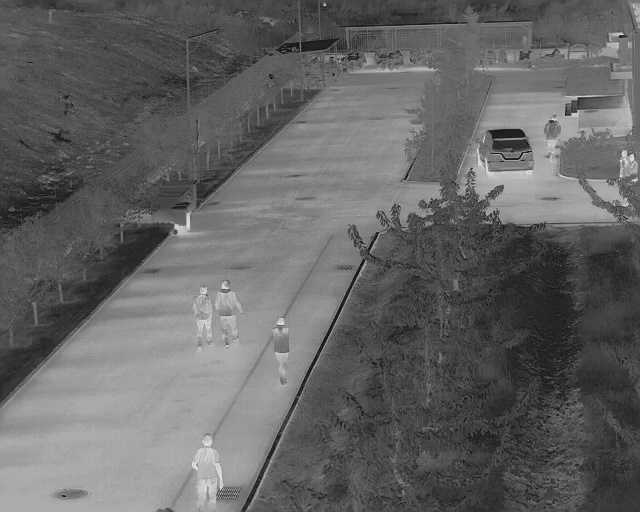person: (191, 431, 224, 508), (211, 277, 244, 348), (270, 314, 292, 385), (192, 282, 214, 351), (541, 110, 561, 158)
vehicle: (474, 126, 535, 177)
